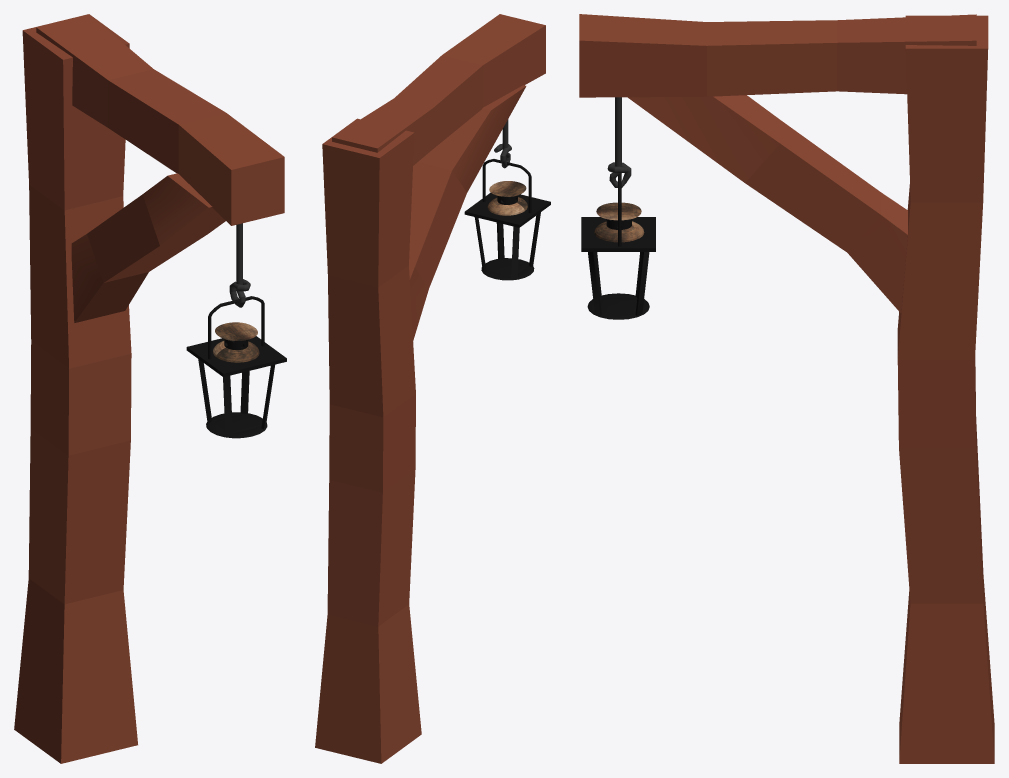
File: lamp-old-street.glb
3 views of the same model, side by side, from view 1: azimuth 30°, elevation 25°; view 2: azimuth 150°, elevation 25°; view 3: azimuth 270°, elevation 25° (orthographic). The views are drawn at different scales.
Parts seen in each view (by area): view 1: Cube.003; view 2: Cube.003; view 3: Cube.003.
Part boxes in pixels (<box>): Cube.003: <box>14,14,286,763</box>; Cube.003: <box>315,14,550,763</box>; Cube.003: <box>579,14,994,763</box>.
Bounding box in the file's own units: 0.1139 × 0.9956 × 0.522.
4 materials, 1 textured.
